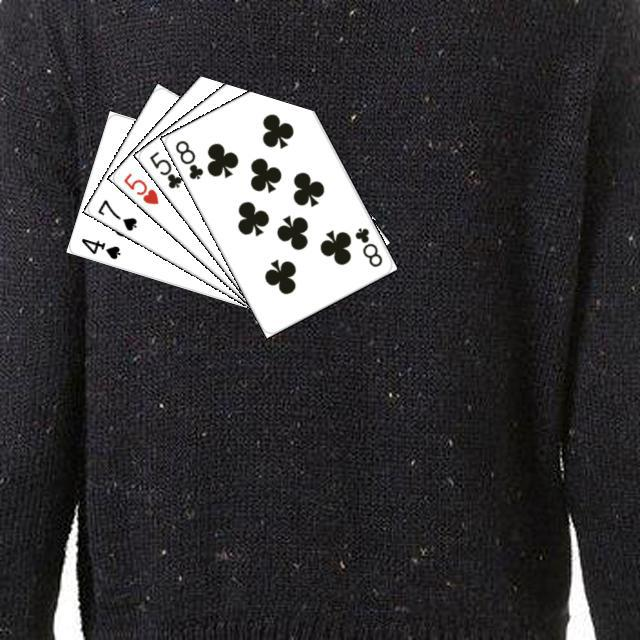4s: (76, 233, 122, 261)
5c: (144, 146, 184, 190)
5h: (118, 168, 161, 206)
7s: (93, 195, 139, 233)
8c: (170, 135, 205, 181), (350, 222, 384, 269)
